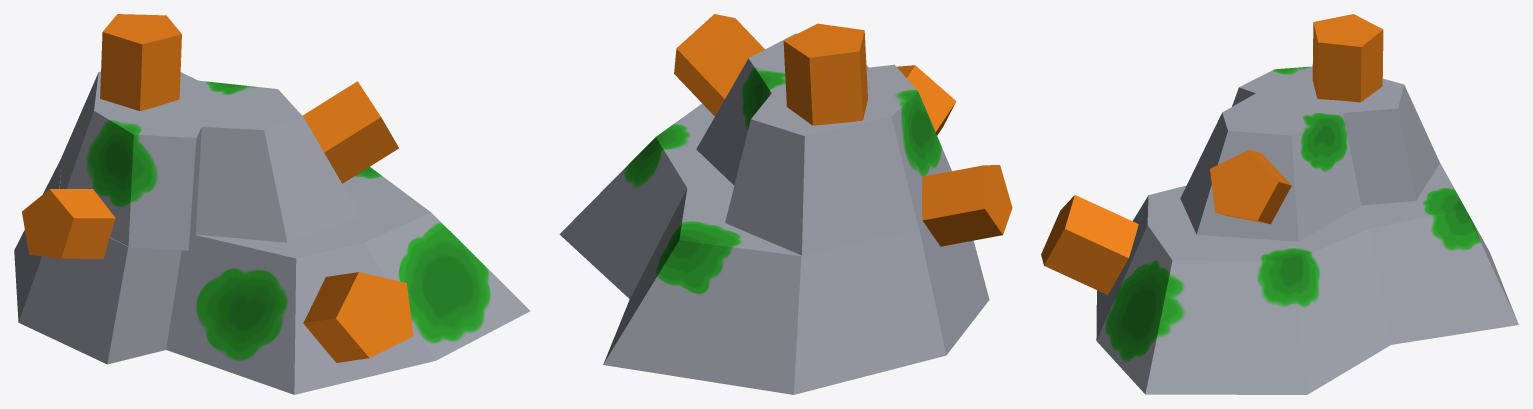
The model's file is BronceMusgo1.fbx.
The picture shows the model from 3 angles, left to right: view 1: azimuth 30°, elevation 25°; view 2: azimuth 150°, elevation 25°; view 3: azimuth 270°, elevation 25°; orthographic projection. The views are drawn at different scales.
Visible parts, largest first — view 1: base.029, Cylinder.014, Cylinder.016, Cylinder.015, cobre.009; view 2: base.029, Cylinder.016, Cylinder.015, cobre.009, Cylinder.014; view 3: base.029, Cylinder.014, Cylinder.016, cobre.009.
Part boxes in pixels (x1,y1,x2,y2): base.029: (14,71,530,394); Cylinder.014: (303,272,413,362); Cylinder.016: (100,14,181,110); Cylinder.015: (22,189,115,258); cobre.009: (302,81,398,183); base.029: (559,33,989,394); Cylinder.016: (783,23,867,125); Cylinder.015: (922,165,1012,246); cobre.009: (674,14,764,116); Cylinder.014: (897,65,956,135); base.029: (1096,66,1518,394); Cylinder.014: (1041,195,1138,294); Cylinder.016: (1312,14,1383,102); cobre.009: (1210,150,1291,224).
Bounding box in the file's own units: 140 × 86.38 × 154.
